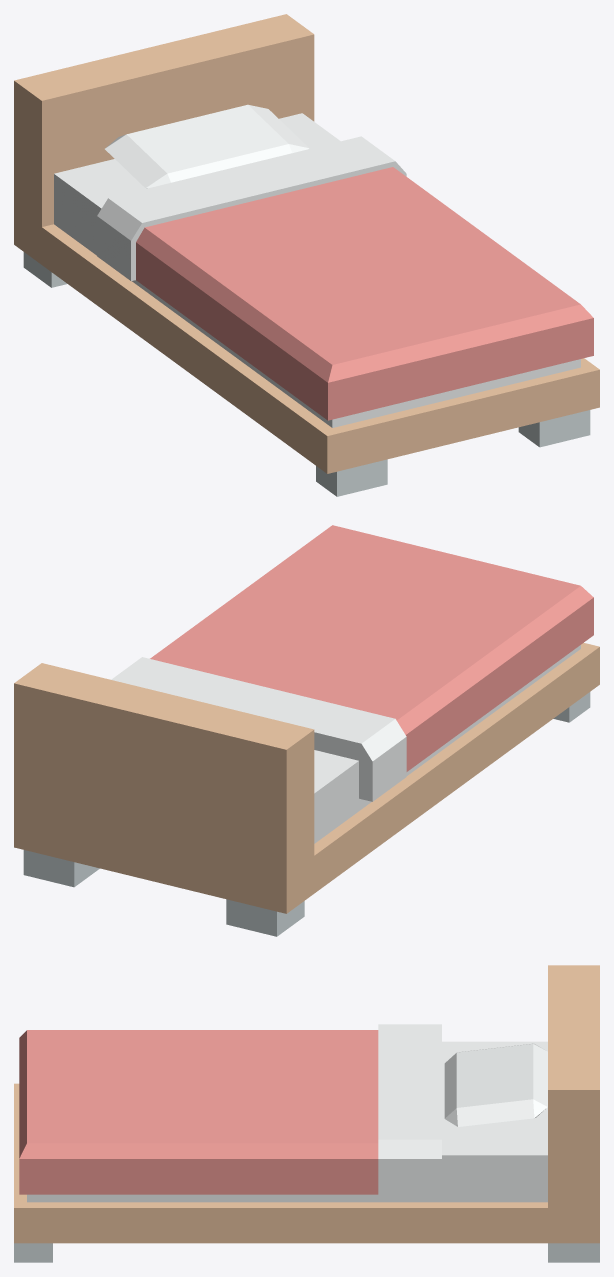
File: bedSingle.gltf
3 renders of one model, top to bottom at view 1: azimuth 30°, elevation 25°; view 2: azimuth 150°, elevation 25°; view 3: azimuth 270°, elevation 25°, orthographic. The views are drawn at different scales.
Visible parts, largest first — view 1: cover, bedSingle(Clone), pillow; view 2: bedSingle(Clone), cover; view 3: cover, bedSingle(Clone), pillow.
Boxes of the visible parts, x1,y1,x2,y2 form: cover: (97, 136, 593, 420); bedSingle(Clone): (14, 14, 599, 496); pillow: (105, 104, 309, 188); bedSingle(Clone): (14, 643, 599, 936); cover: (111, 525, 593, 801); cover: (19, 1024, 441, 1196); bedSingle(Clone): (14, 965, 599, 1262); pillow: (444, 1043, 547, 1126).
Bounding box in the file's own units: 0.571 × 0.375 × 1.12.
